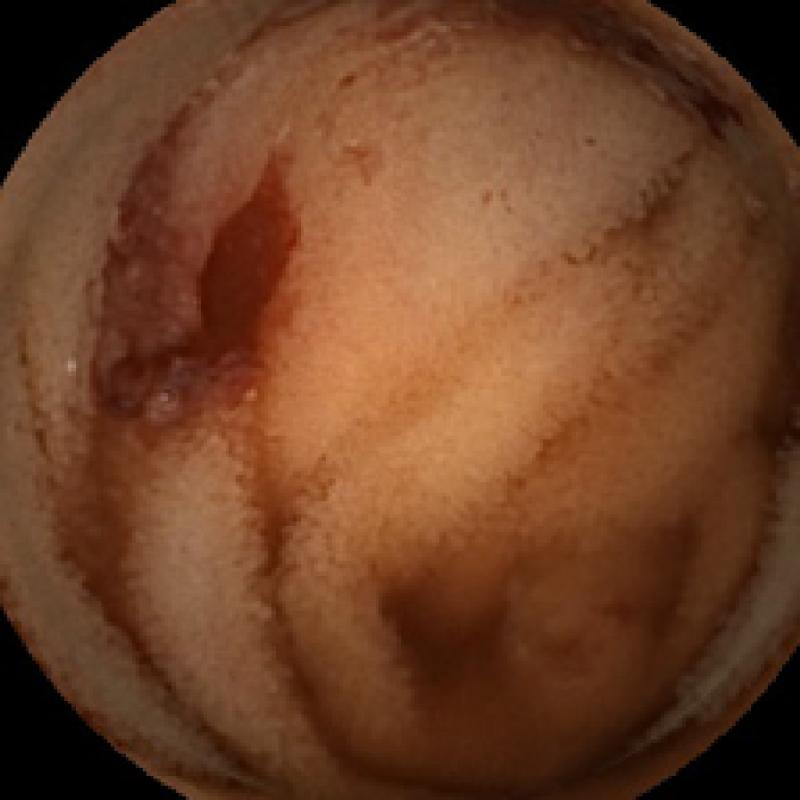bleeding: (153, 143, 310, 396)
